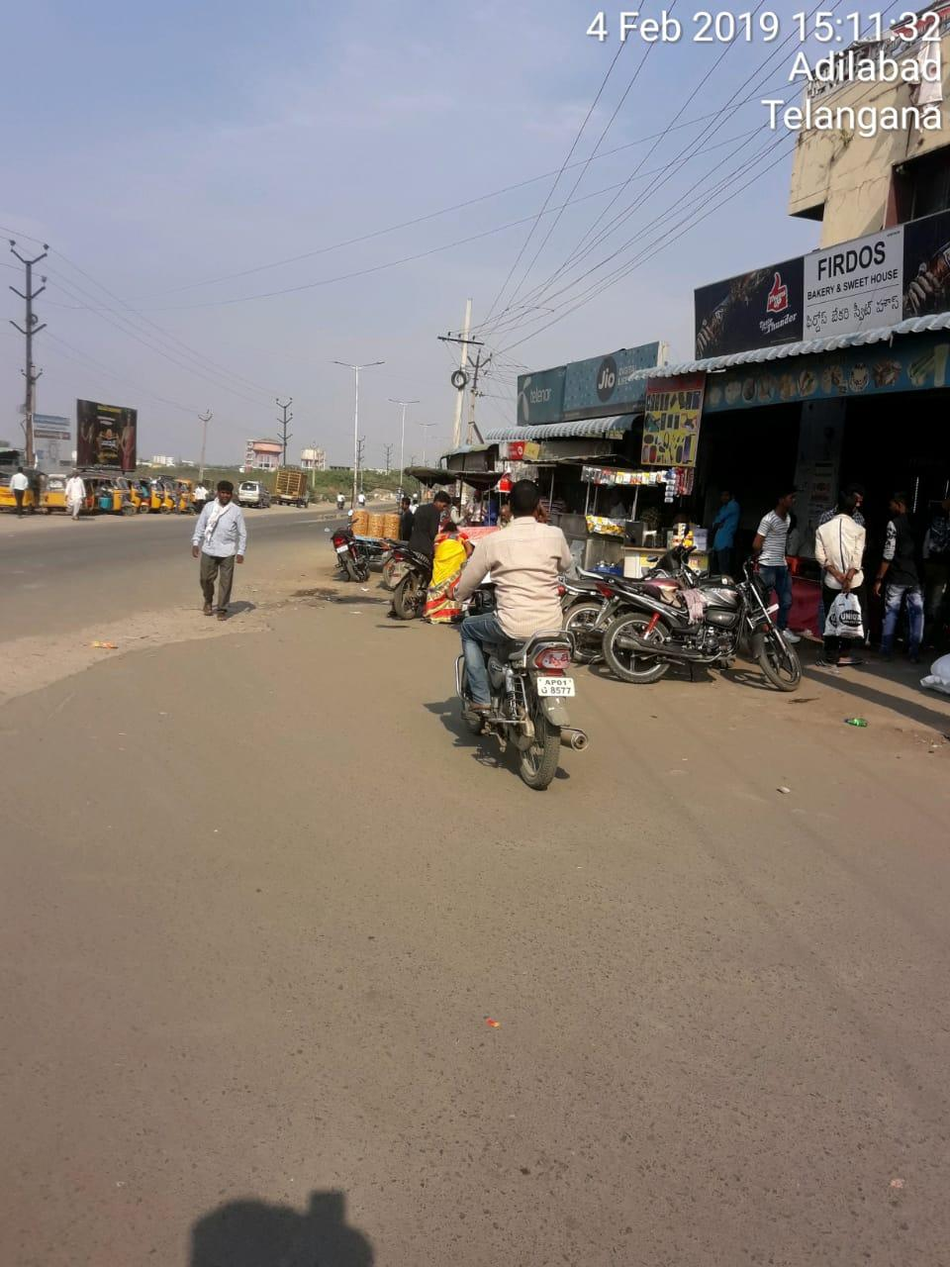plate: (528, 671, 587, 701)
